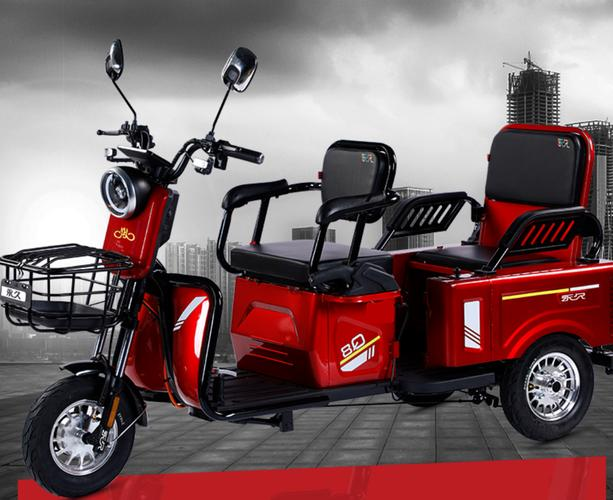empty: (12, 20, 604, 488)
